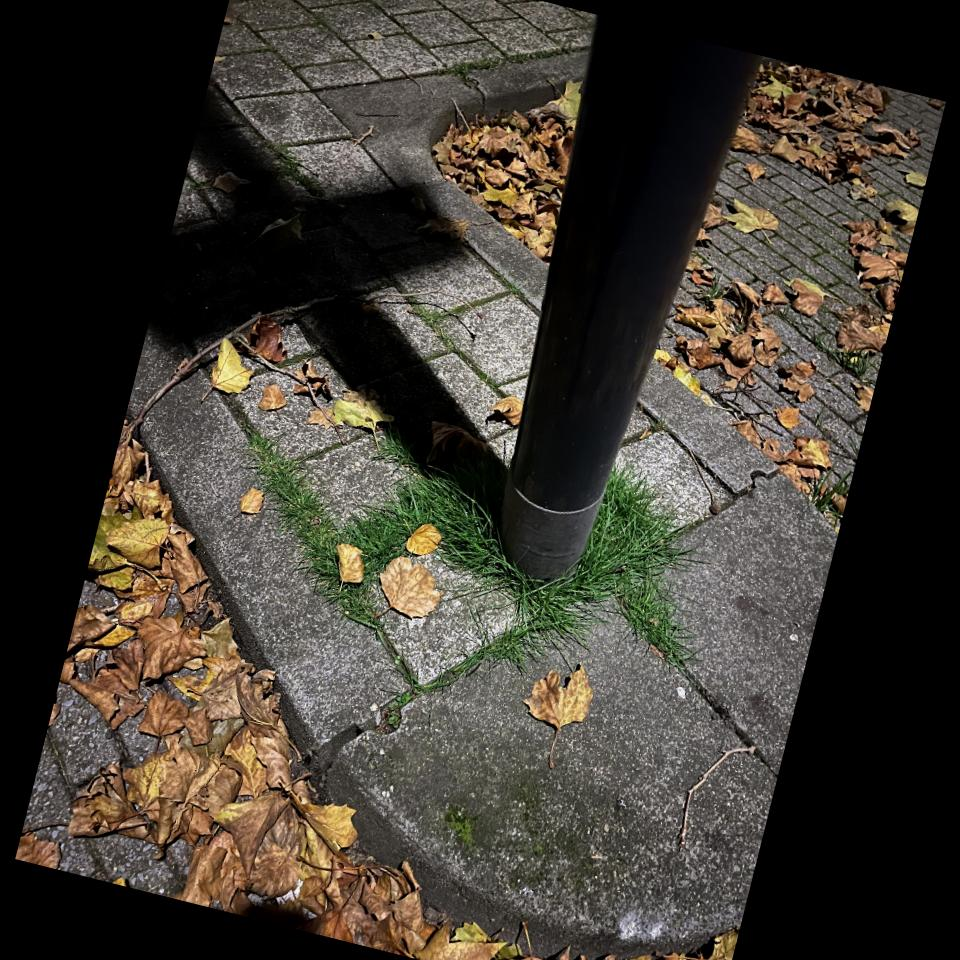weed: (246, 425, 686, 729), (246, 427, 341, 589), (452, 47, 569, 86), (267, 138, 328, 192), (807, 333, 869, 378), (809, 472, 847, 514)
